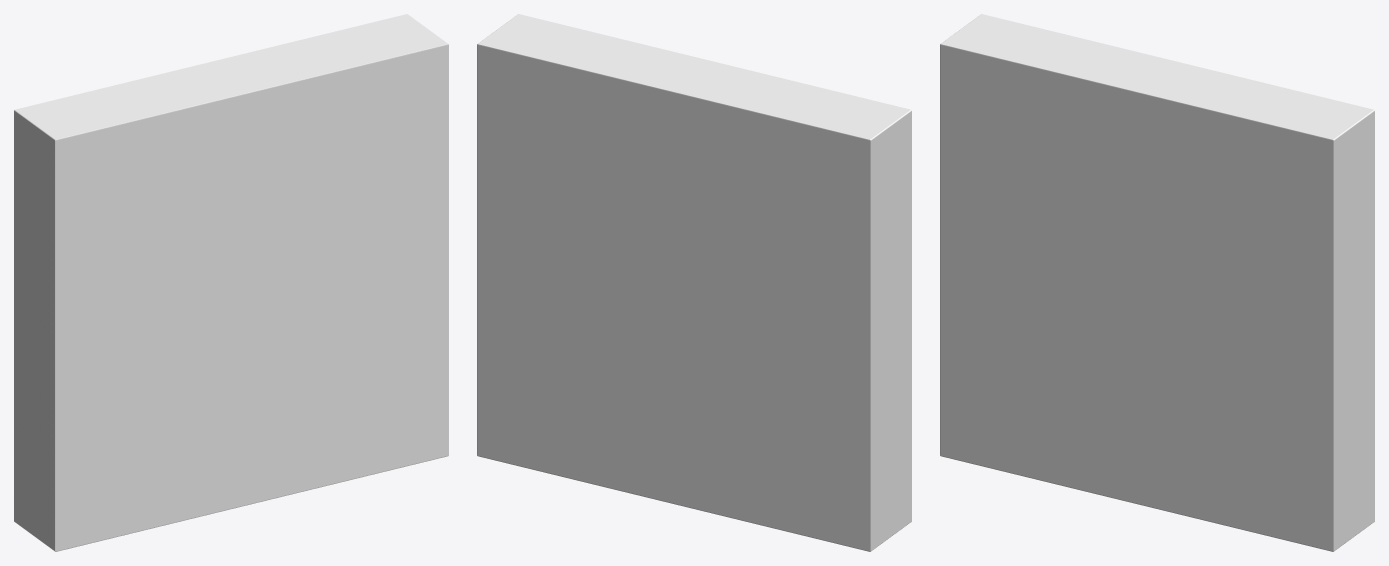
File: PerillaBase.obj
3 views of the same model, side by side, from view 1: azimuth 30°, elevation 25°; view 2: azimuth 150°, elevation 25°; view 3: azimuth 330°, elevation 25° (orthographic).
Visible parts, largest first — view 1: polySurface1 Doorhandles_Mesh; view 2: polySurface1 Doorhandles_Mesh; view 3: polySurface1 Doorhandles_Mesh.
Part boxes in pixels (x1,y1,x2,y2): polySurface1 Doorhandles_Mesh: (14, 14, 448, 551); polySurface1 Doorhandles_Mesh: (477, 14, 911, 551); polySurface1 Doorhandles_Mesh: (940, 14, 1374, 551).
Size of the model in its own units: 0.64 by 0.64 by 0.1162.
Materials: 1 (1 with a texture image).
